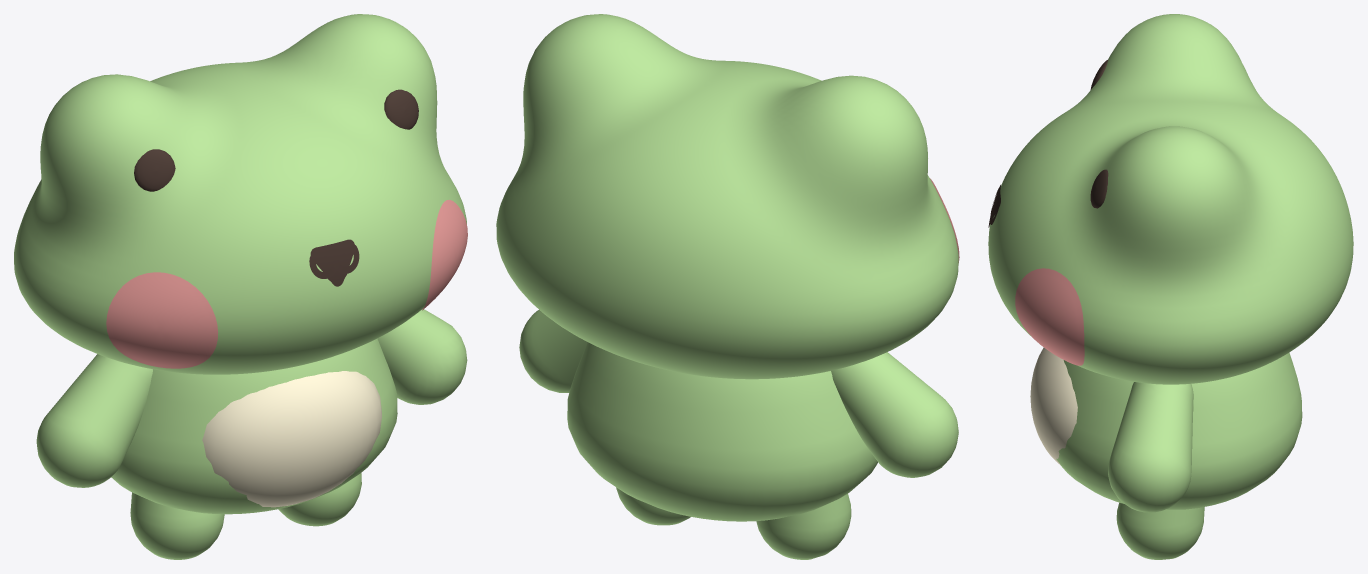
The model's file is kkebook.glb.
3 renders of one model, left to right at view 1: azimuth 30°, elevation 25°; view 2: azimuth 150°, elevation 25°; view 3: azimuth 270°, elevation 25°, orthographic. The views are drawn at different scales.
Visible parts, largest first — view 1: kkebook-head, kkebook-body, kkebook-left-arm, kkebook-right-arm, kkebook-left-leg, kkebook-right-leg, kkebook-mouth-triangle, kkebook-mouth-cat; view 2: kkebook-head, kkebook-body, kkebook-left-arm, kkebook-left-leg, kkebook-right-arm, kkebook-right-leg; view 3: kkebook-head, kkebook-body, kkebook-right-arm, kkebook-right-leg.
Boxes of the visible parts, x1,y1,x2,y2 form: kkebook-head: [14, 14, 467, 374]; kkebook-body: [111, 338, 397, 514]; kkebook-left-arm: [36, 354, 152, 487]; kkebook-right-arm: [377, 309, 467, 404]; kkebook-left-leg: [130, 492, 224, 559]; kkebook-right-leg: [278, 473, 361, 526]; kkebook-mouth-triangle: [310, 239, 354, 286]; kkebook-mouth-cat: [309, 244, 359, 278]; kkebook-head: [496, 14, 959, 379]; kkebook-body: [567, 342, 877, 521]; kkebook-left-arm: [831, 352, 958, 477]; kkebook-left-leg: [756, 493, 851, 559]; kkebook-right-arm: [519, 310, 587, 392]; kkebook-right-leg: [616, 487, 690, 525]; kkebook-head: [988, 14, 1353, 384]; kkebook-body: [1030, 347, 1302, 509]; kkebook-right-arm: [1108, 382, 1193, 512]; kkebook-right-leg: [1116, 502, 1204, 559].
Size of the model in its own units: 1.95 by 2.13 by 1.59.
